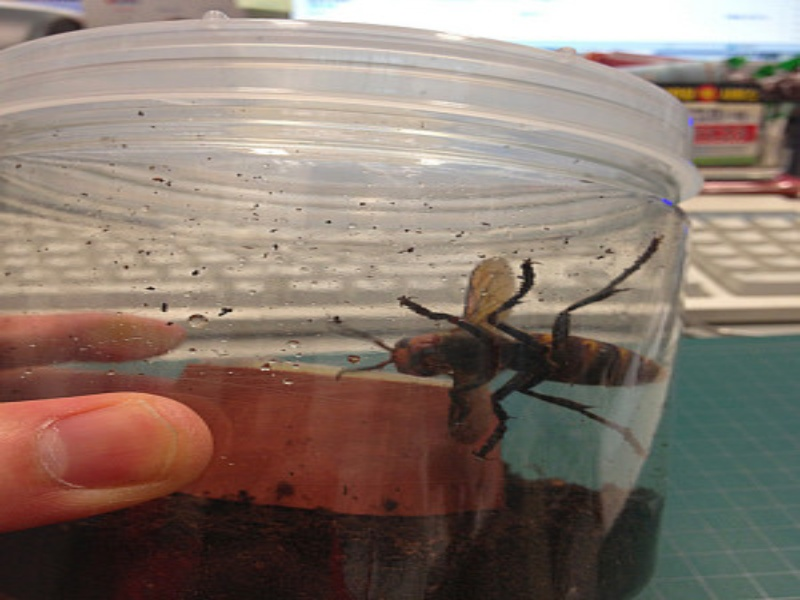asian_giant_hornet: (328, 296, 667, 434)
